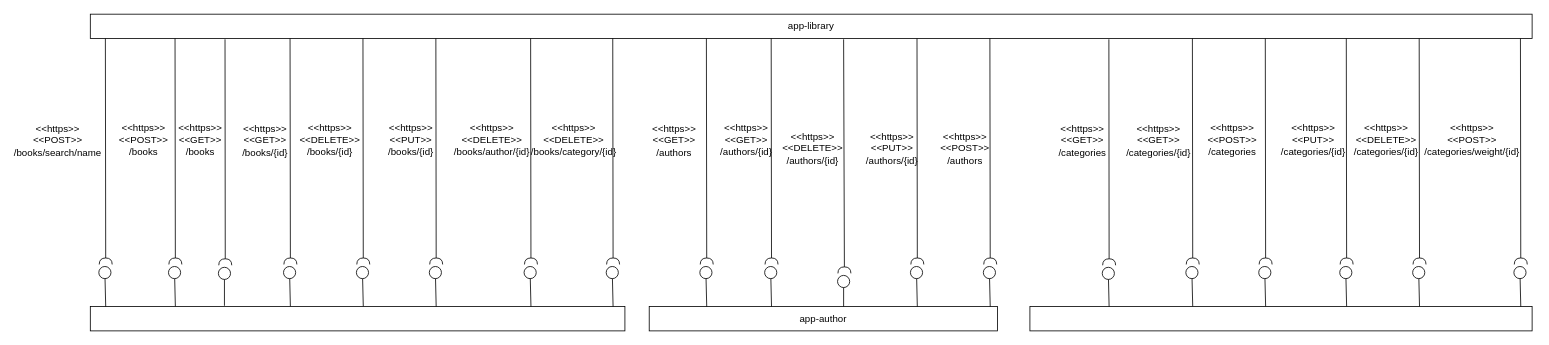
Image size: 1549x345. Some labels were removed from this diagram. Here are the shapes that lost their labels. From the top down, the centre of each, then its label:
At point (357, 318): "app-books".
At point (1280, 318): "app-categories".
